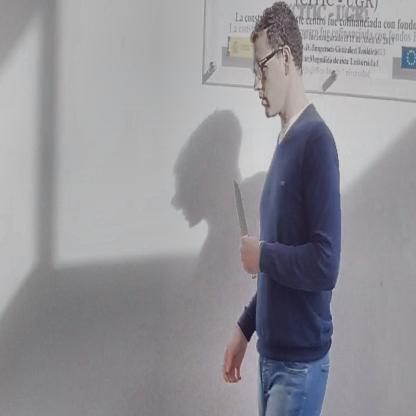knife: (227, 169, 259, 280)
